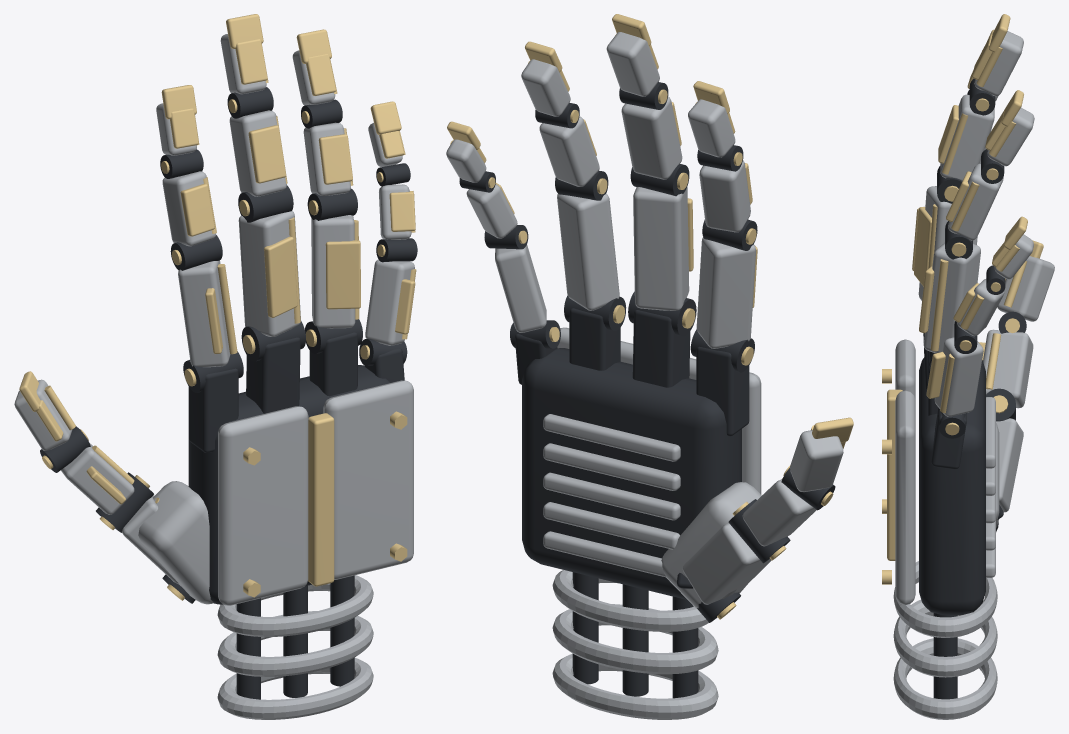
File: family-18.glb
3 views of the same model, side by side, from view 1: azimuth 30°, elevation 25°; view 2: azimuth 150°, elevation 25°; view 3: azimuth 270°, elevation 25° (orthographic). The views are drawn at different scales.
Parts seen in each view (by area): view 1: back_armor_-0.018, back_armor_0.018, thumb_socket, back_spine, palm_chassis, middle_housing_0, wrist_coupling_-0.062, wrist_coupling_-0.048, wrist_coupling_-0.035, index_housing_0, middle_knuckle_mount, index_knuckle_mount (+45 smaller); view 2: palm_chassis, palm, middle_housing_0, ring_housing_0, index_housing_0, wrist_coupling_-0.062, wrist_coupling_-0.048, thumb_housing_0, middle_knuckle_mount, middle_housing_1, wrist_coupling_-0.035, thumb_socket (+30 smaller); view 3: palm_chassis, back_armor_0.018, wrist_coupling_-0.062, wrist_coupling_-0.048, ring_housing_0, thumb_housing_1, wrist_coupling_-0.035, pinky_housing_0, middle_housing_1, thumb_housing_2, palm, thumb_housing_0 (+41 smaller).
Boxes of the visible parts, x1,y1,x2,y2 form: back_armor_-0.018: (218,406,308,605); back_armor_0.018: (323,380,413,579); thumb_socket: (138,481,213,604); back_spine: (308,413,334,586); palm_chassis: (188,365,390,604); middle_housing_0: (238,211,300,336); wrist_coupling_-0.062: (217,658,373,719); wrist_coupling_-0.048: (217,611,373,676); wrist_coupling_-0.035: (217,575,373,636); index_housing_0: (178,260,230,367); middle_knuckle_mount: (246,337,300,413); index_knuckle_mount: (188,368,238,452); palm_chassis: (522,348,741,599); palm: (543,414,680,577); middle_housing_0: (633,187,689,310); ring_housing_0: (557,194,619,310); index_housing_0: (696,237,756,348); wrist_coupling_-0.062: (552,654,718,719); wrist_coupling_-0.048: (552,604,718,674); thumb_housing_0: (682,523,771,604); middle_knuckle_mount: (632,310,690,387); middle_housing_1: (621,96,682,179); wrist_coupling_-0.035: (552,570,708,631); thumb_socket: (661,482,761,608); palm_chassis: (919,357,985,614); back_armor_0.018: (895,390,915,604); wrist_coupling_-0.062: (893,638,997,719); wrist_coupling_-0.048: (893,599,997,677); ring_housing_0: (923,243,980,352); thumb_housing_1: (983,329,1033,408); wrist_coupling_-0.035: (893,561,997,637); pinky_housing_0: (934,337,983,416); middle_housing_1: (940,94,994,180); thumb_housing_2: (997,256,1054,321); palm: (986,397,995,577); thumb_housing_0: (996,418,1023,512).
Bounding box in the file's own units: 0.1291 × 0.2162 × 0.0516.
